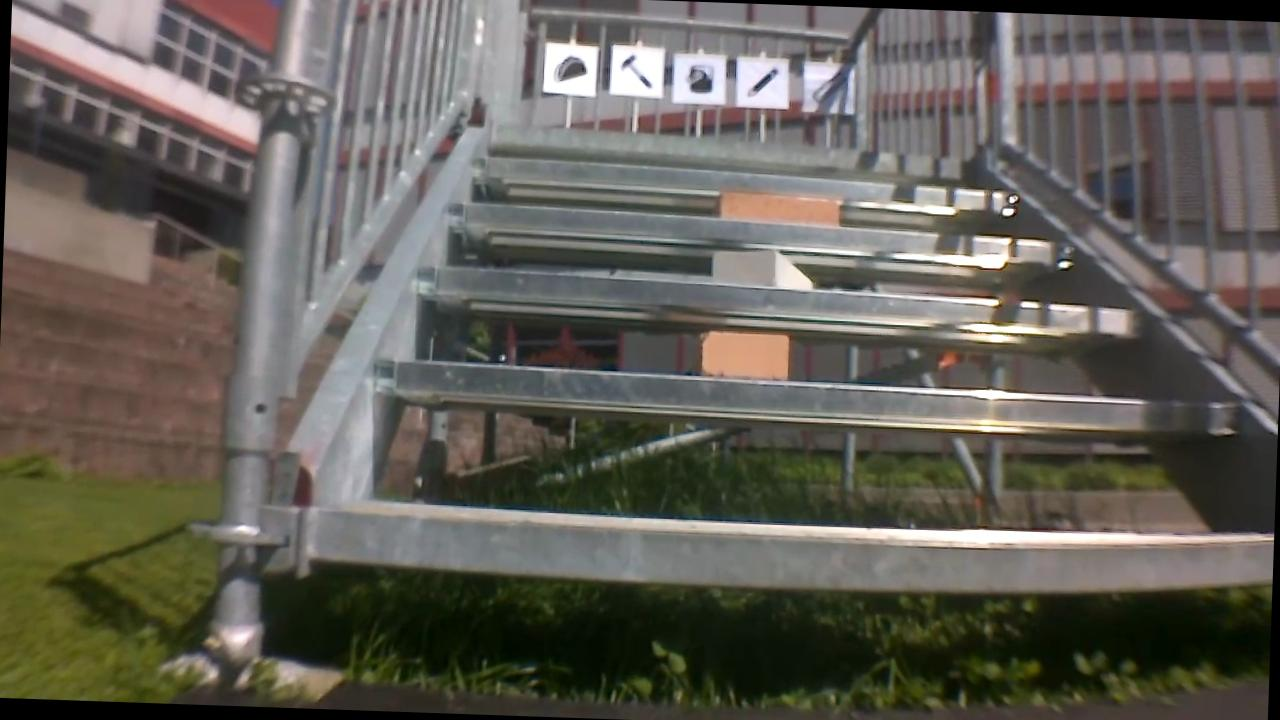brick: (691, 327, 794, 384), (704, 250, 816, 288), (712, 191, 837, 224)
edge: (311, 504, 1274, 590), (362, 367, 1243, 426), (409, 267, 1141, 328), (436, 206, 1074, 265), (458, 158, 1018, 208), (489, 126, 981, 168)
steps: (297, 119, 1280, 601)
